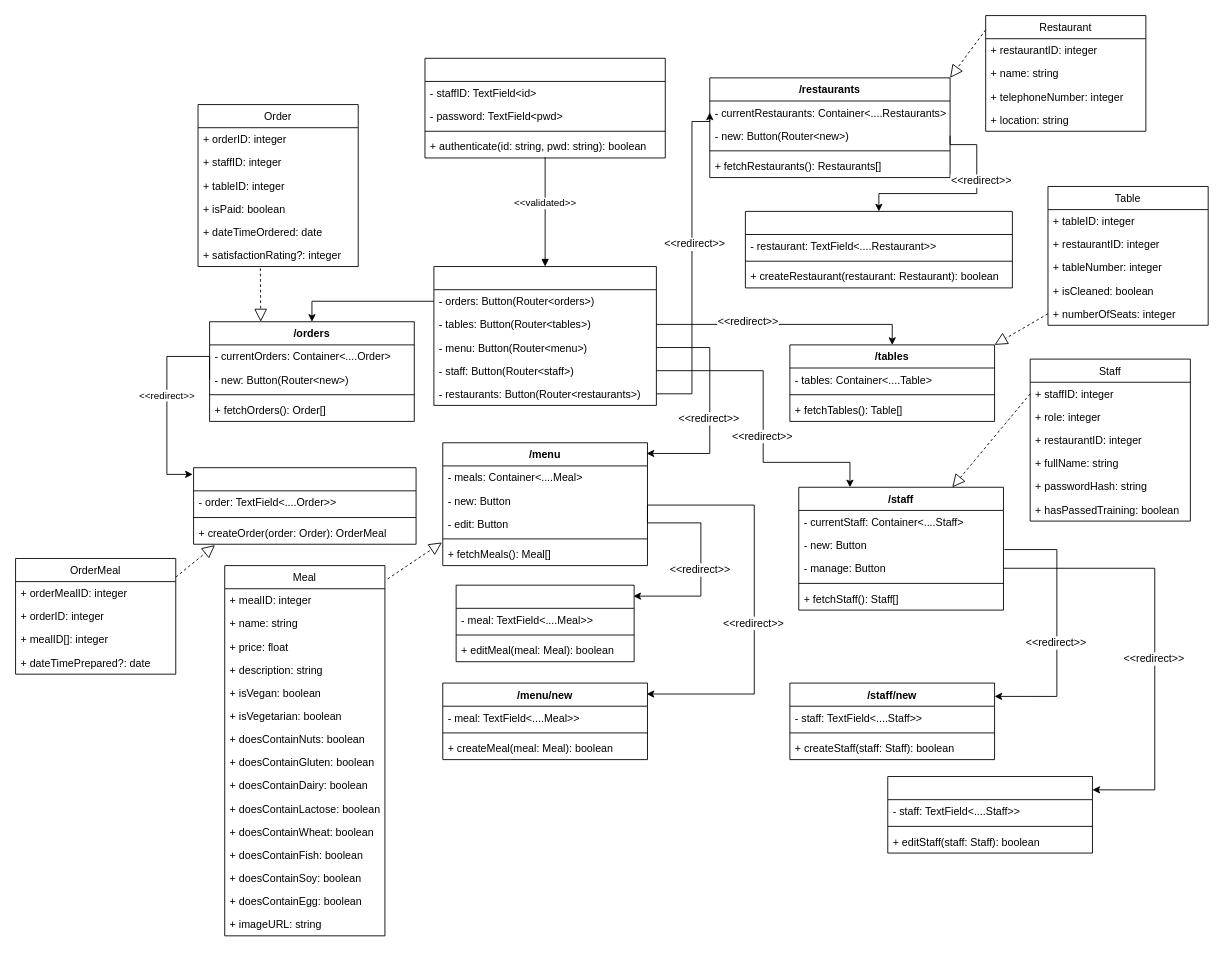
Some shapes in this 1224 by 954 pixel diagram are drawn without their labels. The shapes that lost their labels are listed below. From the top down, each one's box as (x1, y1, x2, y2) in pixels, then its label:
(424, 57, 665, 158): /login
(744, 210, 1012, 288): /restaurants/new
(433, 266, 656, 405): /home
(193, 467, 416, 544): /orders/new
(455, 584, 634, 662): /menu/edit
(887, 776, 1092, 853): /staff/edit
